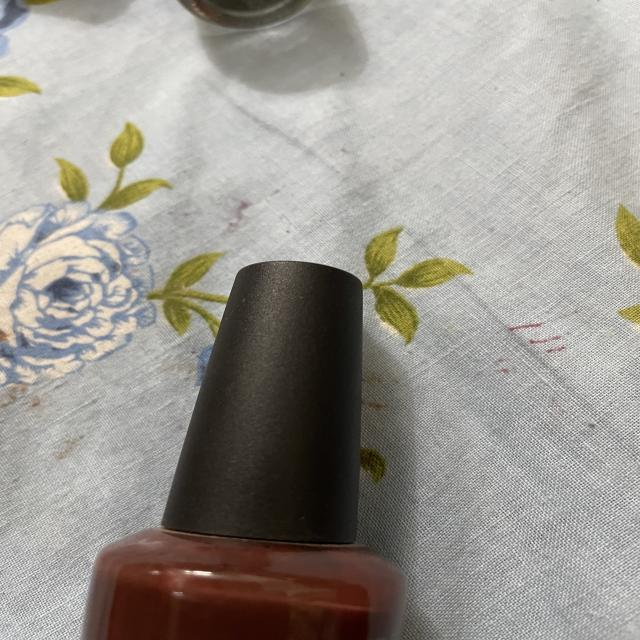nail polish: (68, 249, 404, 640)
